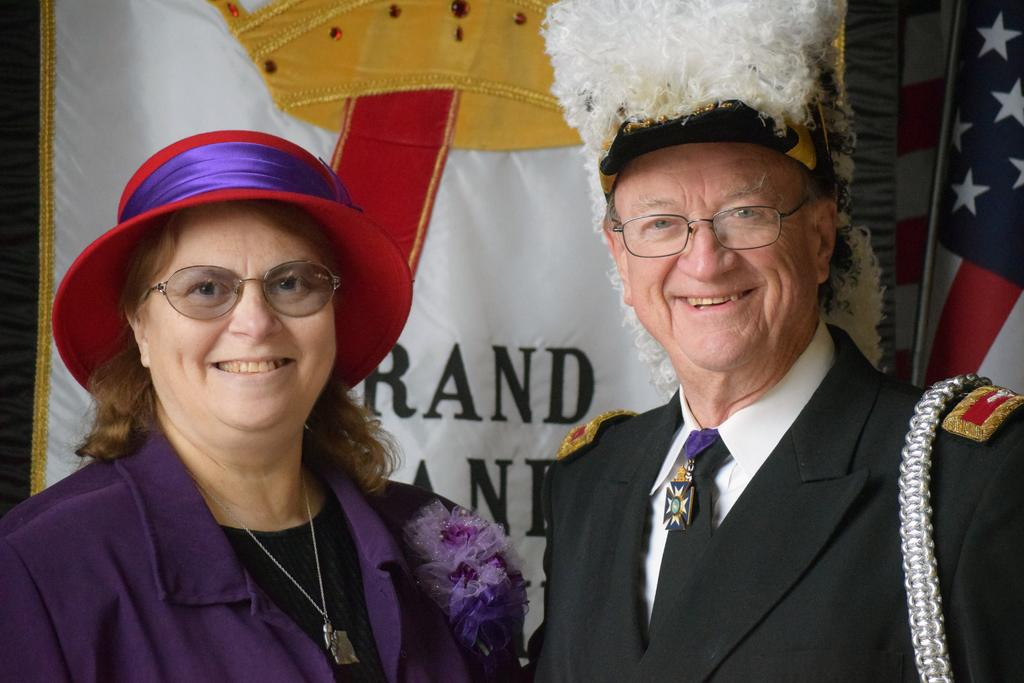Hat: (50, 129, 412, 389)
